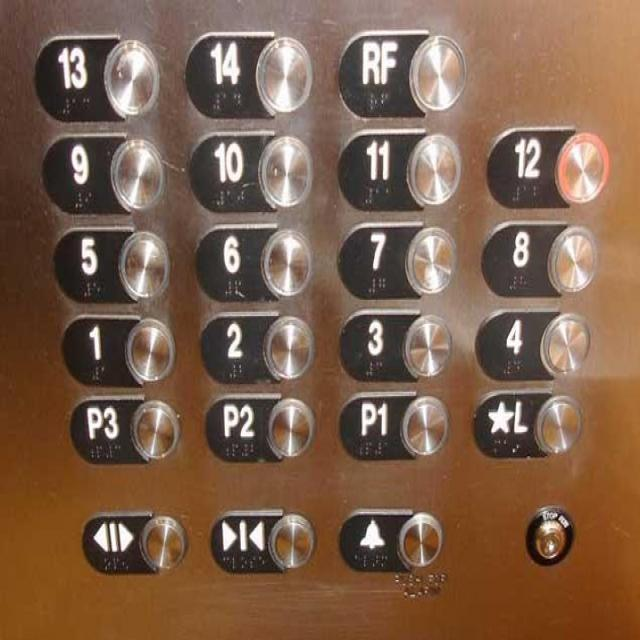1: (59, 308, 177, 385)
10: (188, 124, 315, 213)
11: (337, 123, 465, 212)
12: (486, 124, 613, 211)
13: (34, 29, 161, 120)
14: (185, 26, 314, 121)
2: (199, 309, 316, 383)
3: (338, 305, 454, 383)
4: (474, 304, 591, 384)
5: (51, 220, 174, 305)
6: (192, 214, 316, 306)
7: (336, 218, 458, 302)
8: (481, 219, 600, 300)
9: (38, 132, 169, 216)
P1: (338, 384, 449, 463)
P2: (204, 388, 314, 467)
P3: (70, 391, 183, 466)
RF: (336, 25, 469, 119)
alarm: (338, 504, 442, 572)
close: (208, 504, 317, 575)
keyhole: (520, 500, 576, 567)
open: (80, 504, 190, 576)
sL: (472, 387, 586, 460)
